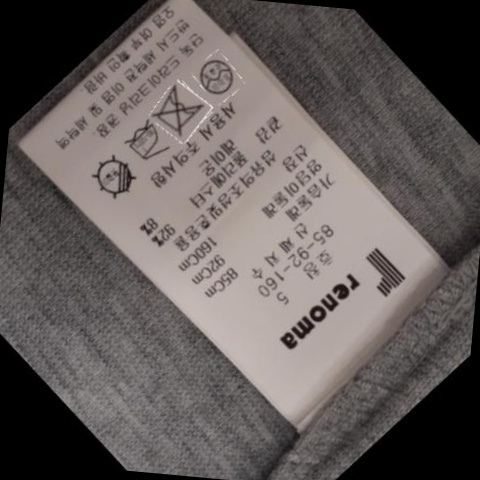DN_wash: (154, 88, 208, 134)
dry_clean_petrol_only: (197, 55, 240, 96)
iron_low: (122, 122, 170, 164)
line_dry_in_shade: (91, 156, 144, 200)
